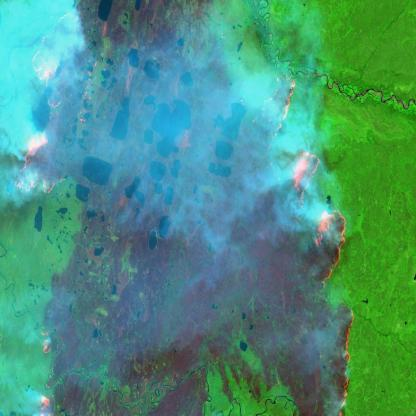fire: (29, 15, 83, 113), (13, 124, 70, 207), (249, 64, 300, 149), (312, 207, 355, 291), (330, 304, 358, 416), (292, 144, 331, 210), (33, 388, 57, 416), (38, 320, 53, 358)
